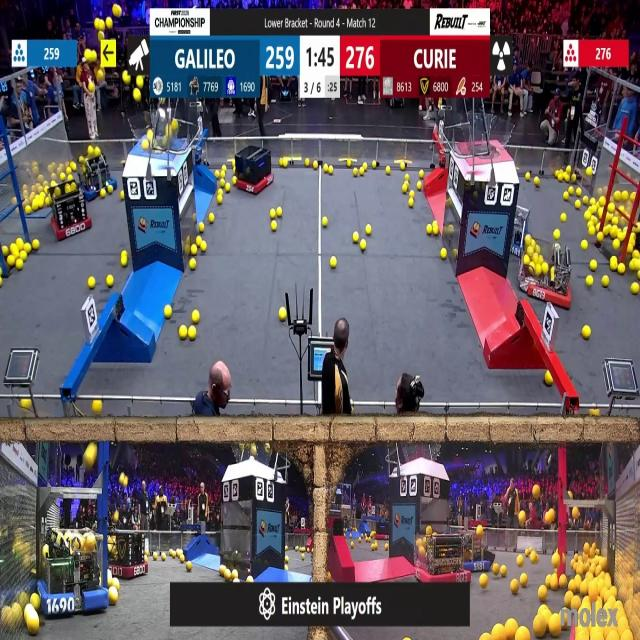ball_airborne: (86, 445, 98, 467), (544, 511, 553, 526), (96, 19, 105, 32), (134, 90, 142, 103), (112, 4, 120, 17), (519, 512, 526, 526), (136, 76, 144, 88), (97, 70, 105, 82), (91, 51, 99, 63), (120, 474, 127, 487), (535, 486, 542, 499), (84, 51, 92, 62), (571, 508, 578, 520), (106, 19, 113, 30), (122, 72, 128, 84), (113, 512, 119, 524), (251, 446, 257, 457), (147, 130, 153, 140), (142, 140, 148, 150), (172, 120, 178, 130), (90, 82, 96, 92), (99, 31, 105, 40)
ball_ground: (27, 615, 40, 636), (550, 619, 562, 639), (492, 625, 503, 640), (109, 590, 118, 605), (518, 628, 530, 639), (31, 594, 40, 608), (544, 372, 552, 387), (538, 587, 546, 602), (570, 596, 579, 609), (279, 308, 287, 322), (584, 325, 592, 339), (512, 581, 520, 595), (94, 399, 102, 413), (553, 554, 561, 568), (564, 594, 572, 608), (187, 326, 195, 339), (22, 397, 31, 408), (609, 260, 617, 272), (191, 311, 198, 324), (329, 255, 336, 268), (180, 326, 187, 339), (521, 573, 528, 586), (589, 222, 596, 235), (630, 261, 638, 272), (107, 276, 114, 288), (602, 276, 609, 288), (165, 307, 172, 319), (188, 260, 195, 272), (481, 574, 488, 586), (499, 564, 506, 576), (6, 255, 14, 265), (492, 563, 500, 573), (632, 283, 639, 294), (587, 276, 594, 287), (2, 246, 9, 257), (530, 553, 537, 564), (90, 277, 96, 289), (120, 254, 126, 266), (442, 248, 448, 260), (269, 209, 277, 218), (611, 240, 619, 249), (619, 265, 626, 275), (15, 261, 22, 271), (189, 246, 196, 256), (219, 564, 226, 574), (364, 224, 371, 234), (10, 245, 17, 255), (517, 556, 524, 566), (596, 234, 603, 244), (110, 577, 117, 587), (591, 261, 597, 272), (201, 242, 207, 253), (599, 198, 606, 207), (33, 240, 39, 250), (555, 230, 561, 240), (272, 220, 278, 230), (322, 216, 328, 226), (232, 569, 238, 579), (583, 240, 589, 250), (432, 223, 437, 235), (16, 240, 22, 250), (18, 249, 24, 259), (555, 170, 561, 180), (524, 173, 531, 181), (482, 633, 490, 640), (591, 411, 599, 418), (427, 223, 432, 234), (353, 233, 358, 244), (545, 574, 550, 585), (401, 183, 407, 192), (574, 201, 580, 210), (100, 188, 106, 197), (276, 208, 282, 217), (564, 173, 570, 182), (588, 168, 594, 177), (26, 206, 32, 215), (524, 255, 530, 264), (584, 197, 590, 206), (26, 243, 32, 252), (360, 241, 365, 251), (186, 561, 191, 571), (108, 185, 113, 195), (419, 171, 425, 179), (247, 575, 253, 583), (570, 174, 576, 182), (568, 186, 574, 194), (194, 237, 200, 245), (566, 166, 572, 174), (561, 213, 566, 222), (386, 167, 391, 176), (200, 222, 205, 231), (224, 183, 229, 192), (453, 248, 458, 257), (358, 169, 364, 176), (347, 161, 353, 168), (633, 250, 639, 257), (574, 188, 580, 195), (170, 551, 176, 558), (221, 166, 227, 173), (564, 191, 569, 199), (217, 197, 222, 205), (534, 177, 539, 185), (313, 162, 318, 170), (353, 168, 358, 176), (215, 171, 220, 179), (162, 554, 167, 562), (586, 212, 591, 220), (0, 268, 4, 278), (596, 223, 600, 233), (284, 564, 289, 572), (119, 190, 123, 199), (324, 165, 328, 174), (636, 272, 640, 281), (180, 556, 185, 563), (371, 163, 376, 170), (410, 190, 415, 197), (403, 174, 408, 181), (284, 557, 289, 564), (299, 553, 304, 560), (362, 165, 367, 172), (68, 175, 73, 182), (418, 182, 422, 190), (210, 214, 214, 222), (410, 200, 414, 208), (306, 160, 310, 168), (400, 164, 404, 172), (328, 167, 332, 175), (0, 278, 4, 286), (284, 160, 288, 168), (284, 544, 289, 550), (371, 543, 376, 549), (218, 186, 223, 192), (234, 177, 238, 184), (220, 180, 224, 187), (153, 554, 157, 561), (385, 543, 389, 549)
goal: (460, 118, 516, 158), (129, 114, 187, 152)
robot_blue: (36, 532, 105, 616), (78, 146, 114, 201), (460, 526, 494, 571)
robot_red: (519, 240, 574, 310), (412, 527, 467, 584), (50, 180, 92, 240), (106, 528, 148, 578), (234, 144, 273, 196)
